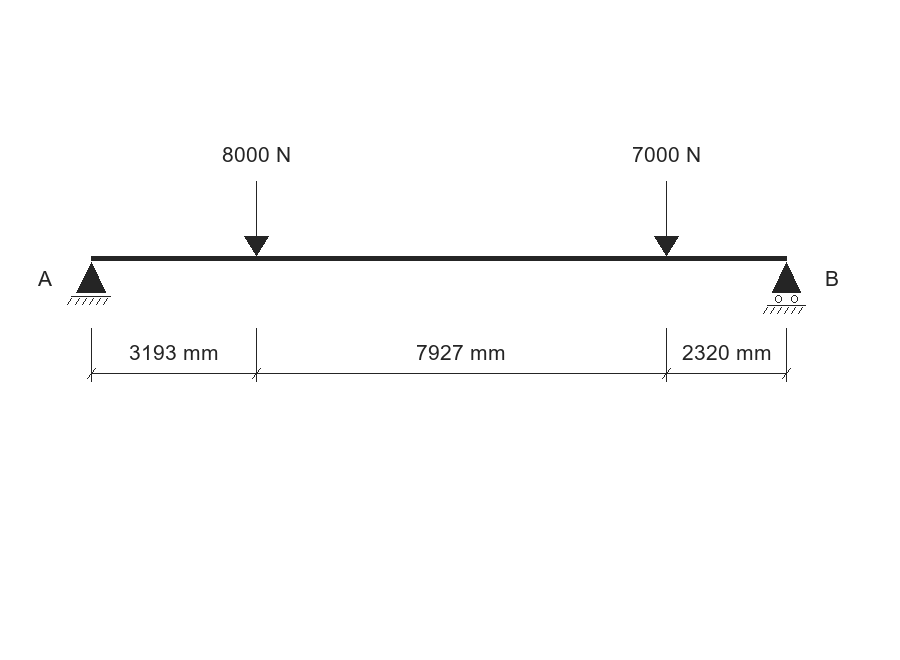pin_support: (67, 262, 111, 305)
point_load: (244, 181, 269, 256), (654, 181, 679, 256)
roller_support: (763, 262, 806, 314)
